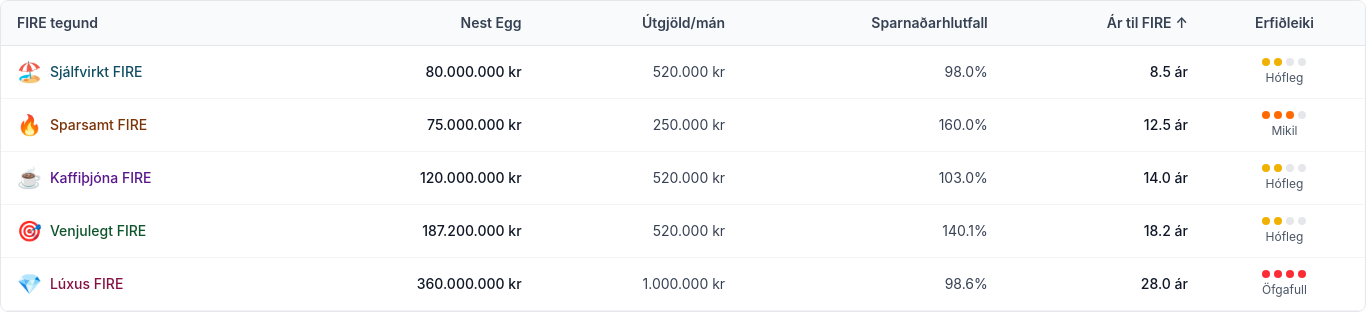
Test: ComparisonTable Component › Sorting Functionality › displays sort indicator on active column
This screenshot has width=1366, height=329.
Expected: the column heading "Ár til FIRE" shows "↑", [1176,14,1188,31]
Click the column heading "Ár til FIRE" at (1104, 23), box [1004,1,1204,46]
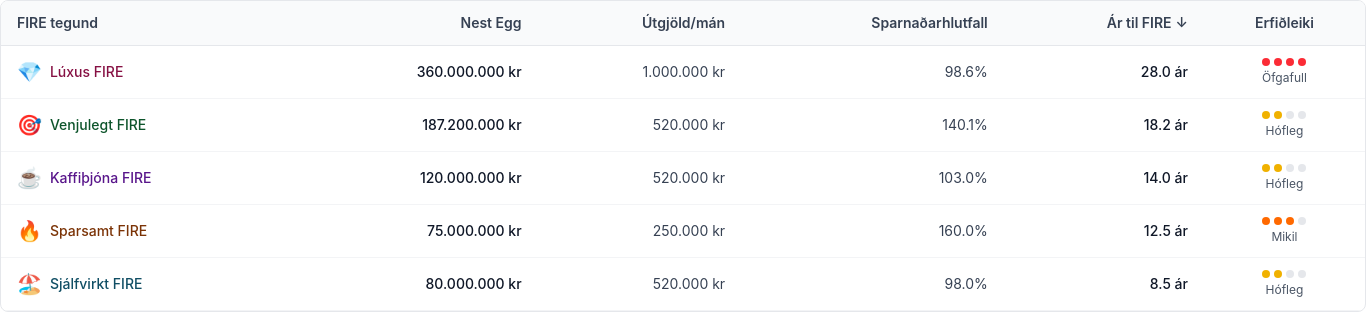
Now the column heading "Ár til FIRE" shows "↓", box [1176,14,1188,31]
